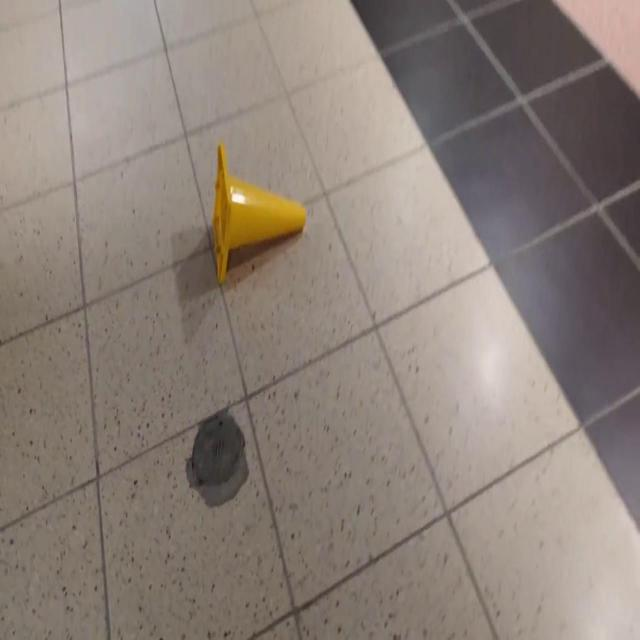frc_cone: (210, 144, 306, 277)
